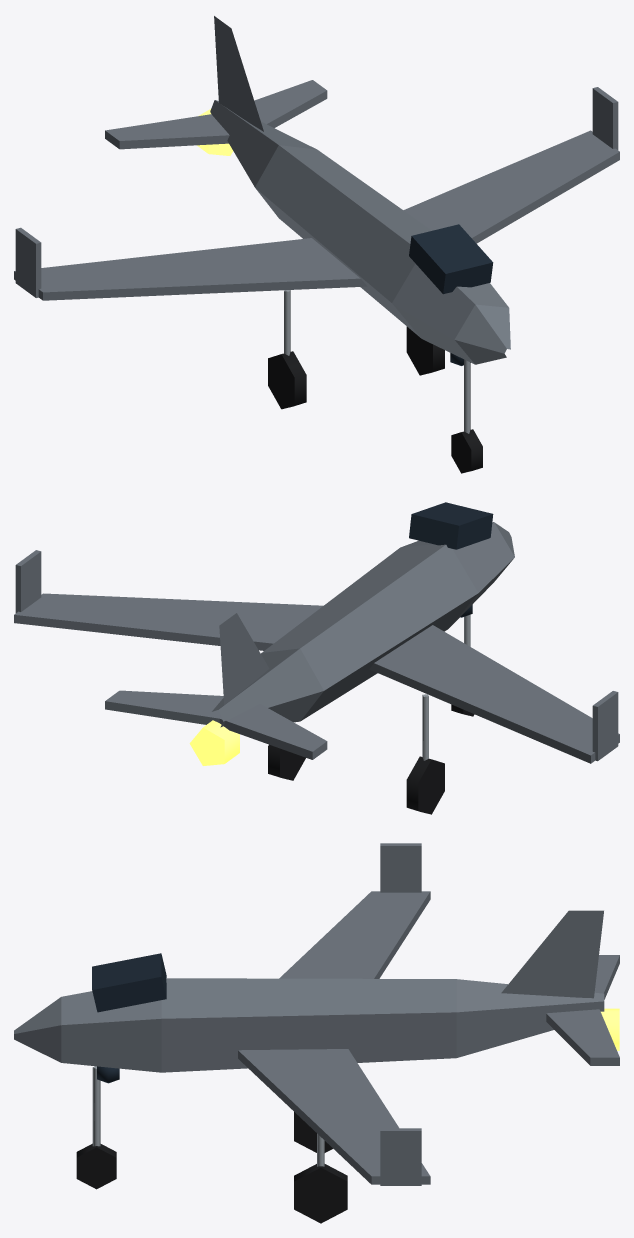
File: veh_air_fighter_a08_lod1.glb
The picture shows the model from 3 angles, top to bottom: view 1: azimuth 30°, elevation 25°; view 2: azimuth 150°, elevation 25°; view 3: azimuth 270°, elevation 25°; orthographic projection.
Parts seen in each view (by area): view 1: body, gear_1, gear_0, gear_2; view 2: body, gear_1, gear_2; view 3: body, gear_2, gear_0, gear_1.
Part boxes in pixels (left/top/right/bottom): body: left=14, top=16, right=619, bottom=365; gear_1: left=268, top=290, right=306, bottom=409; gear_0: left=451, top=359, right=482, bottom=473; gear_2: left=406, top=326, right=444, bottom=375; body: left=14, top=502, right=619, bottom=765; gear_1: left=406, top=694, right=444, bottom=814; gear_2: left=268, top=744, right=305, bottom=780; body: left=14, top=843, right=619, bottom=1185; gear_2: left=294, top=1133, right=347, bottom=1223; gear_0: left=76, top=1066, right=116, bottom=1189; gear_1: left=294, top=1112, right=332, bottom=1152.
Size of the model in its own units: 8.8 by 3.95 by 7.83.
